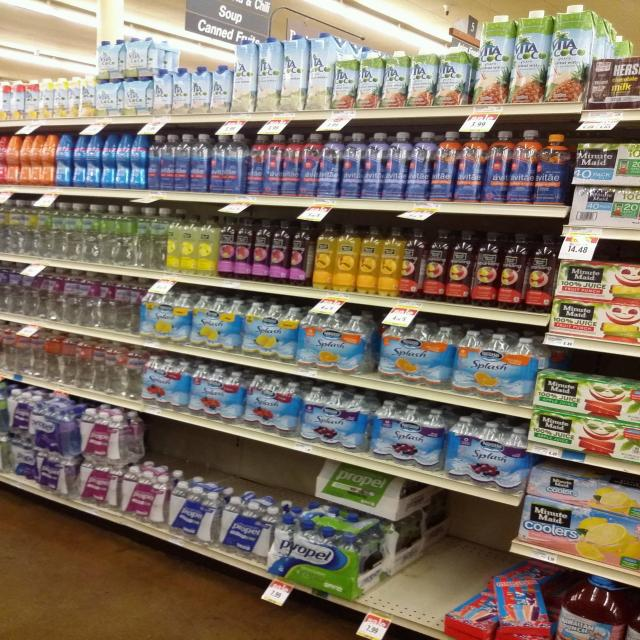empty: (386, 473, 505, 633)
